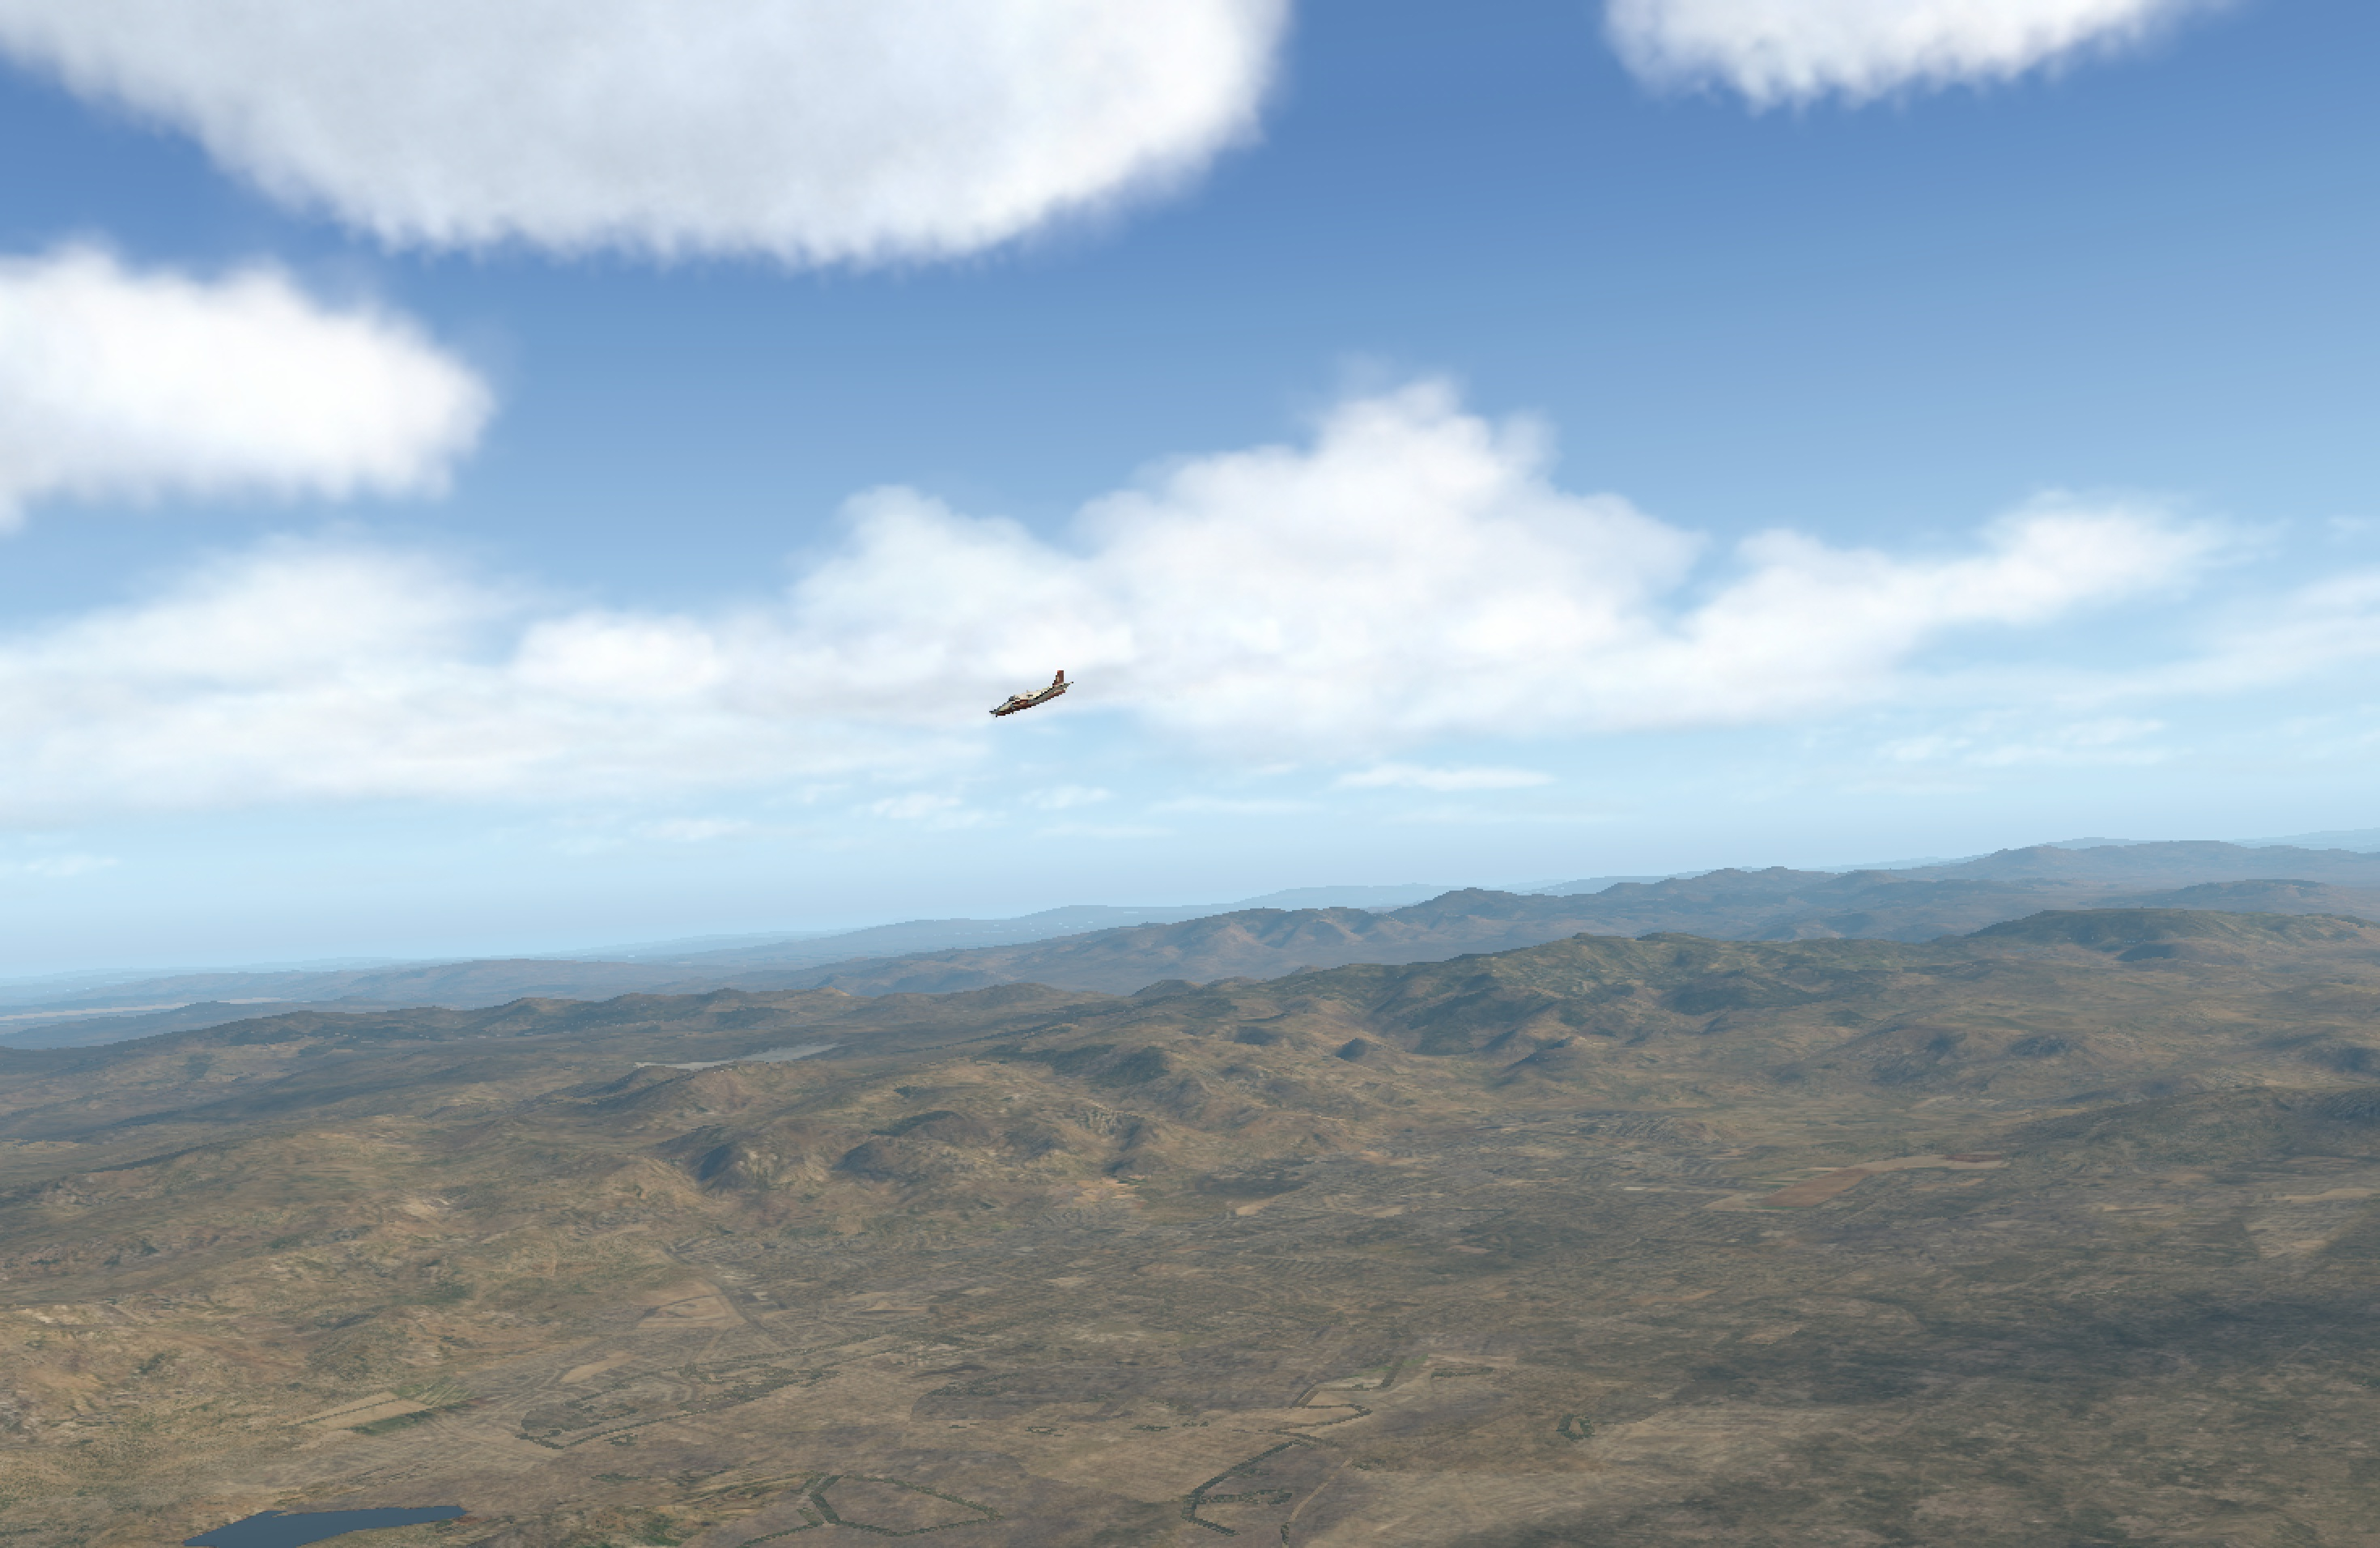aircraft: (954, 684, 1089, 734)
